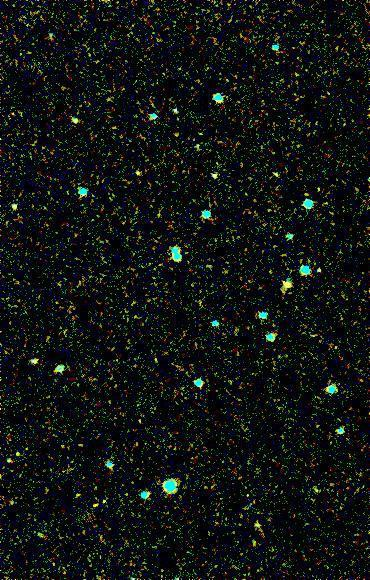star: (125, 158, 155, 188)
